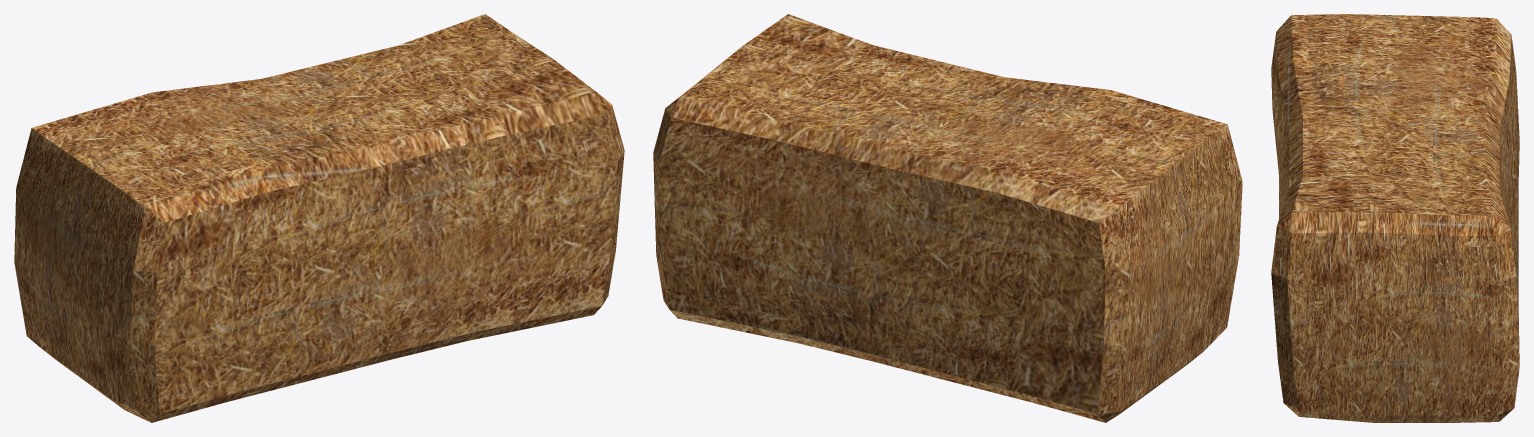
Rendered from ballaFieno.FBX.
The picture shows the model from 3 angles, left to right: view 1: azimuth 30°, elevation 25°; view 2: azimuth 150°, elevation 25°; view 3: azimuth 270°, elevation 25°; orthographic projection. The views are drawn at different scales.
Parts seen in each view (by area): view 1: Box004; view 2: Box004; view 3: Box004.
Part boxes in pixels (x1,y1,x2,y2): Box004: (14,14,624,422); Box004: (653,14,1242,422); Box004: (1271,14,1519,422).
Size of the model in its own units: 23.14 by 11.12 by 10.59.
1 material, 1 textured.
